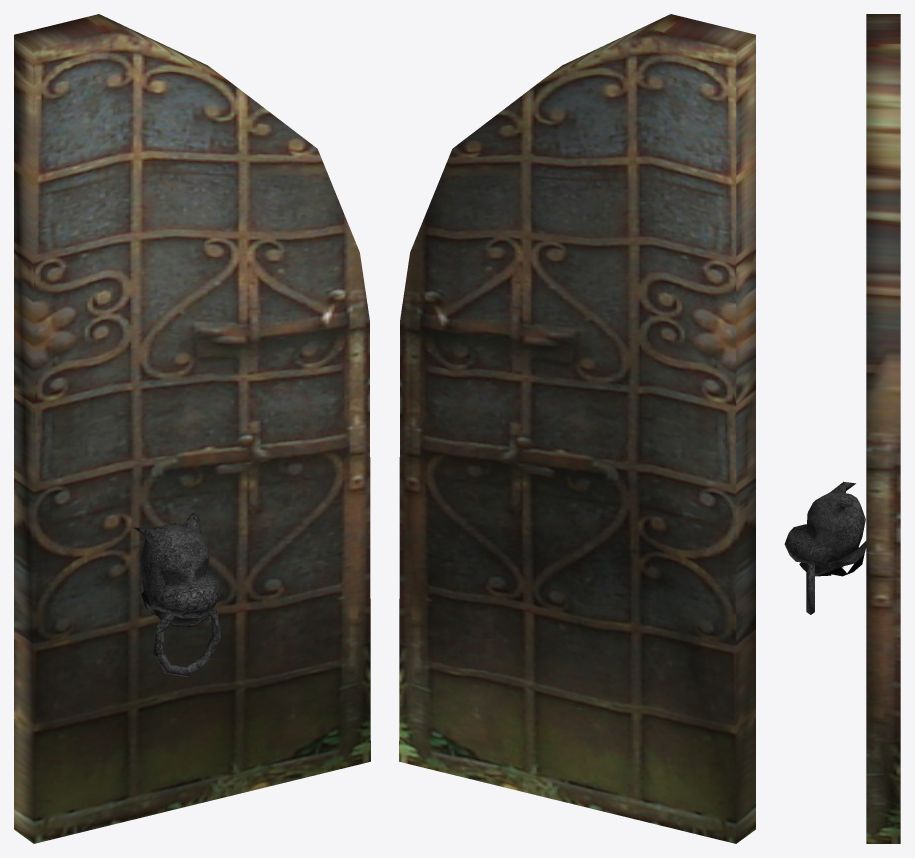
File: RightDoorClosed.glb
3 views of the same model, side by side, from view 1: azimuth 30°, elevation 25°; view 2: azimuth 150°, elevation 25°; view 3: azimuth 270°, elevation 25° (orthographic). The views are drawn at different scales.
Parts seen in each view (by area): view 1: metaldoor.jpg__, nolok_ao.jpg__; view 2: metaldoor.jpg__; view 3: metaldoor.jpg__, nolok_ao.jpg__.
Part boxes in pixels (left/top/right/bottom): metaldoor.jpg__: left=14, top=14, right=370, bottom=843; nolok_ao.jpg__: left=133, top=513, right=221, bottom=676; metaldoor.jpg__: left=399, top=14, right=755, bottom=843; metaldoor.jpg__: left=866, top=14, right=900, bottom=843; nolok_ao.jpg__: left=784, top=481, right=866, bottom=614.
Bounding box in the file's own units: 10.97 × 24.72 × 3.78.
Materials: 2 (2 with a texture image).
